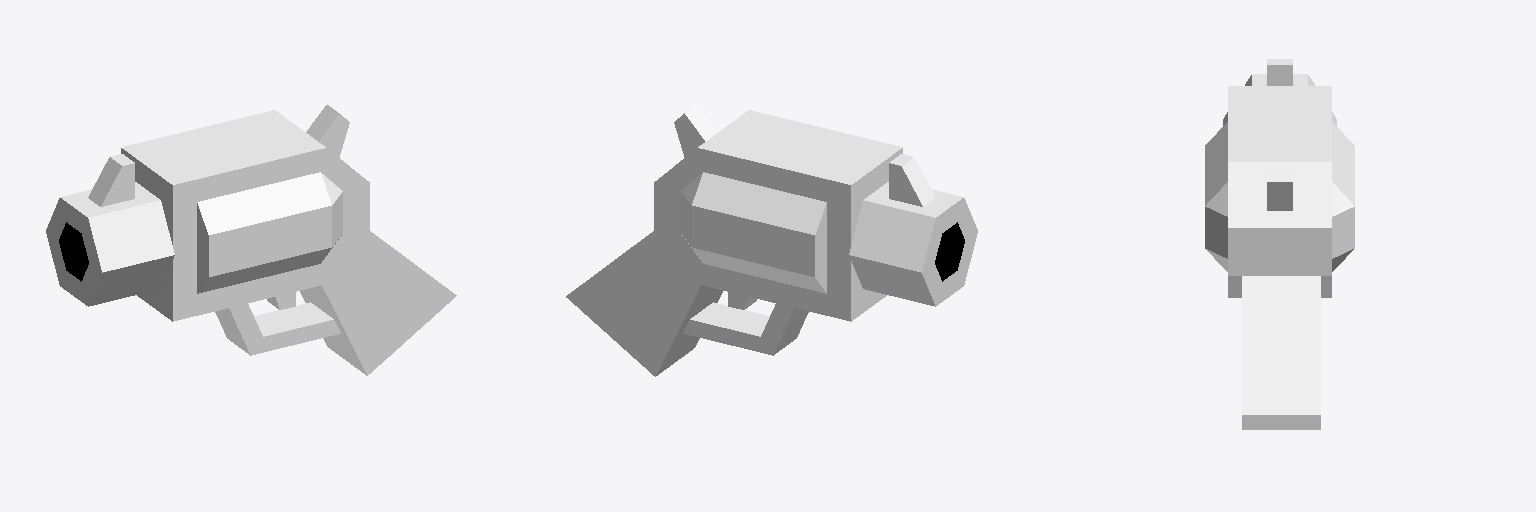
Rendered from gun.obj.
The picture shows the model from 3 angles: view 1: azimuth 30°, elevation 25°; view 2: azimuth 150°, elevation 25°; view 3: azimuth 270°, elevation 25°; orthographic projection.
Parts seen in each view (by area): view 1: Box003; view 2: Box003; view 3: Box003.
Part boxes in pixels (left/top/right/bottom): Box003: left=46, top=105, right=456, bottom=375; Box003: left=566, top=105, right=977, bottom=376; Box003: left=1205, top=59, right=1354, bottom=429.
Size of the model in its own units: 100 by 67.6 by 35.76.